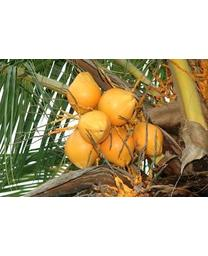coconut: (98, 122, 132, 168), (64, 127, 100, 170), (98, 88, 137, 126), (126, 118, 164, 157), (67, 70, 102, 112), (78, 109, 111, 146)
